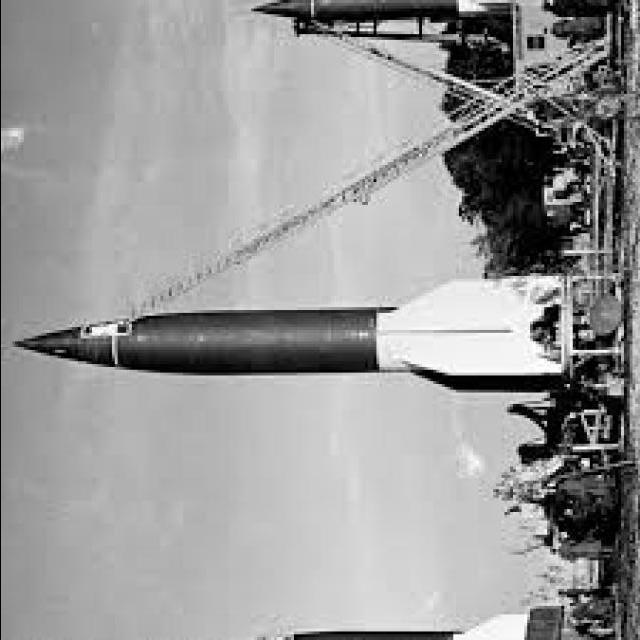Missile: (2, 270, 560, 406), (0, 300, 388, 378)
